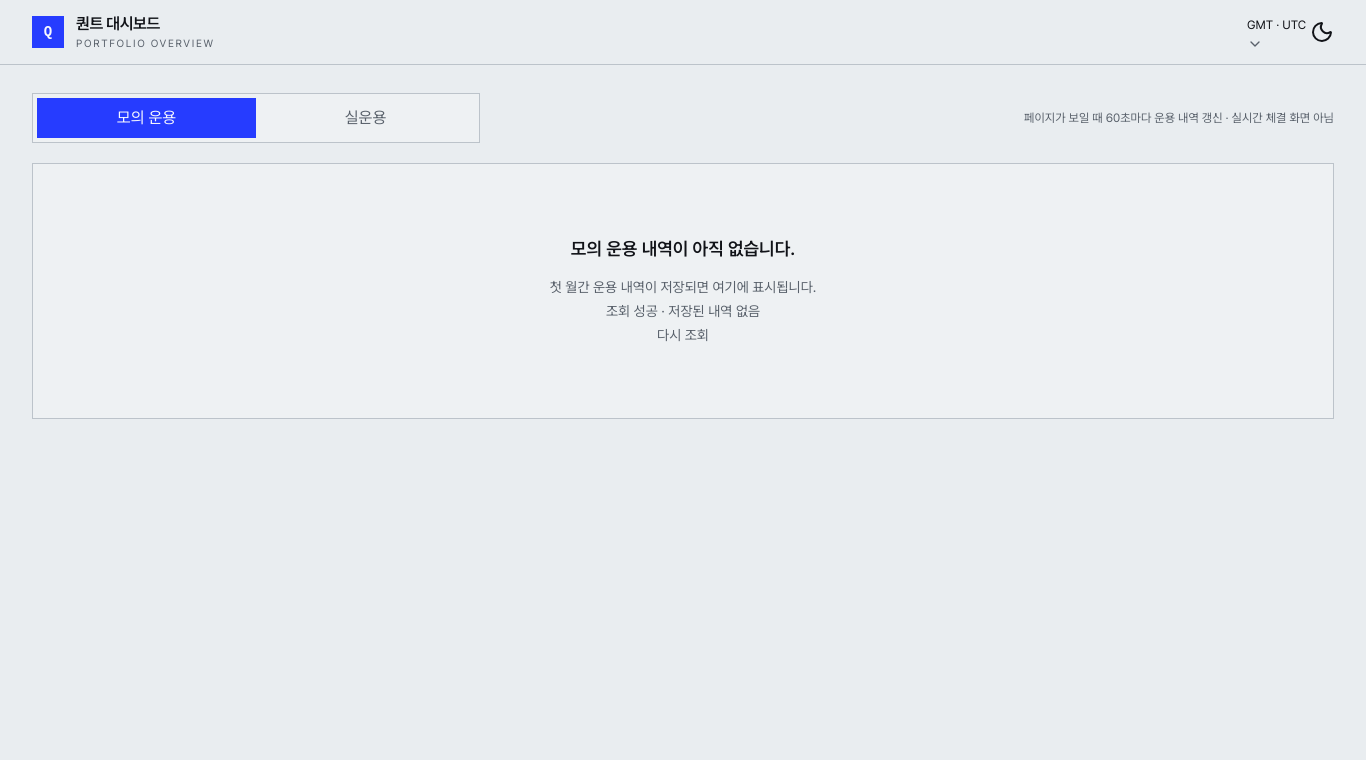
it: Quant dashboard app › offers retry on confirmed empty and recovers without changing mode
Check: the heading "모의 운용 내역이 아직 없습니다." is shown, box [571,238,795,259]
Click the button "다시 조회" at x=683, y=335, box [657,323,709,347]
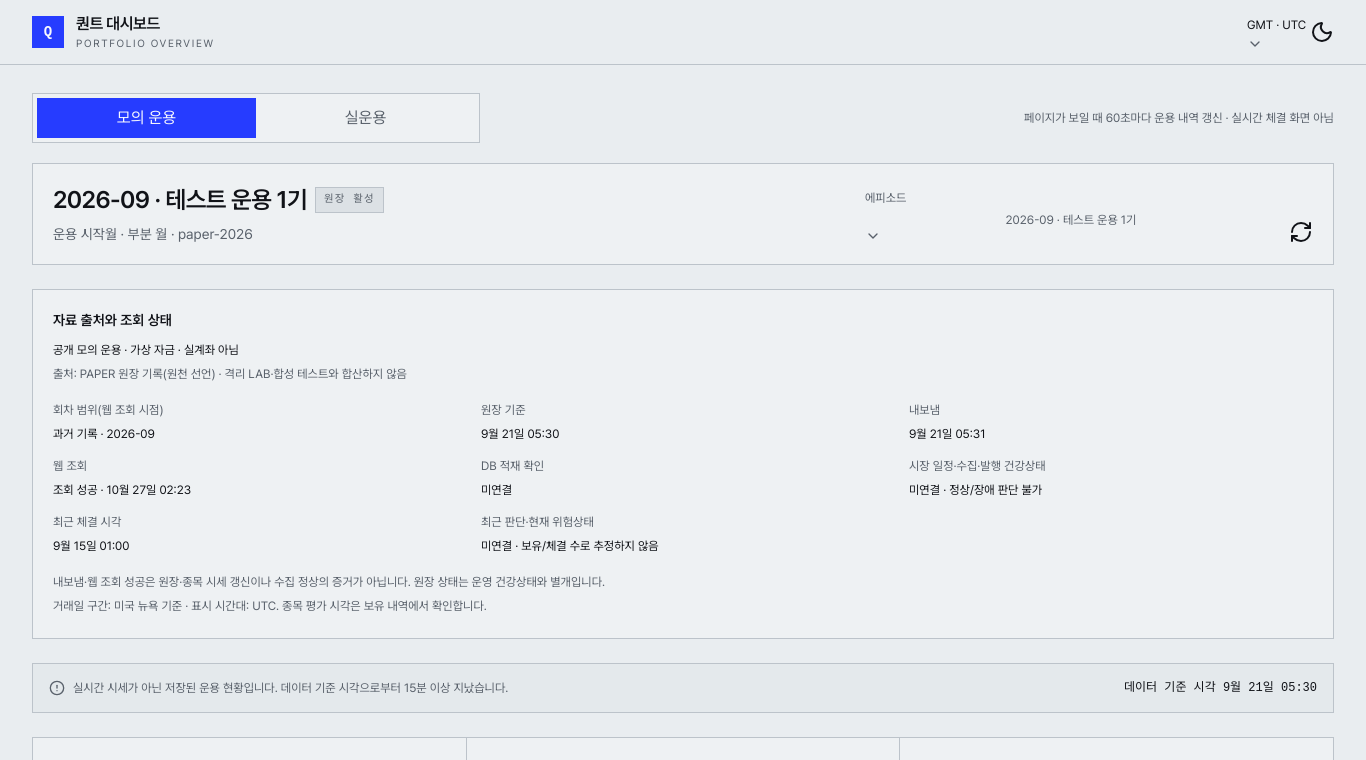
Check: the heading "2026-09 · 테스트 운용 1기" is shown, box [53,184,307,216]
